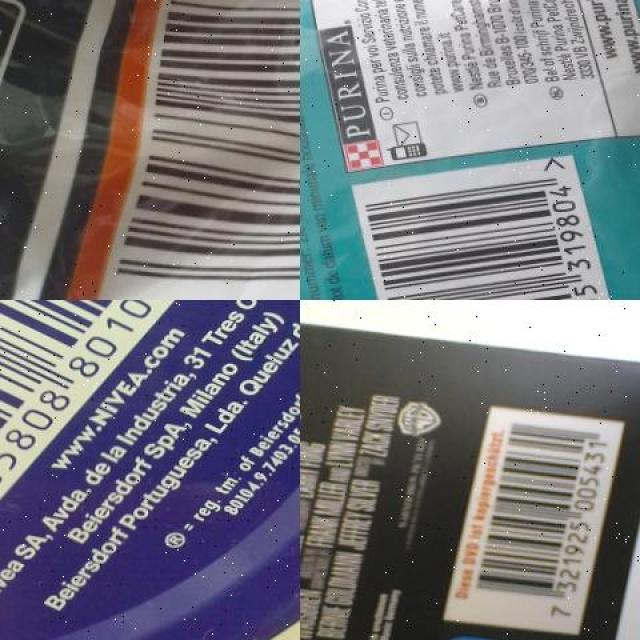Barcode: (91, 0, 300, 300), (0, 300, 227, 557), (345, 152, 640, 300), (442, 405, 626, 635)
